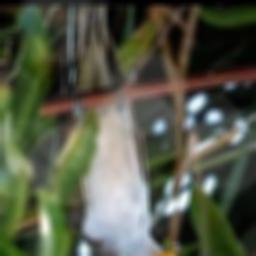Cuckoo: (57, 5, 181, 256)
